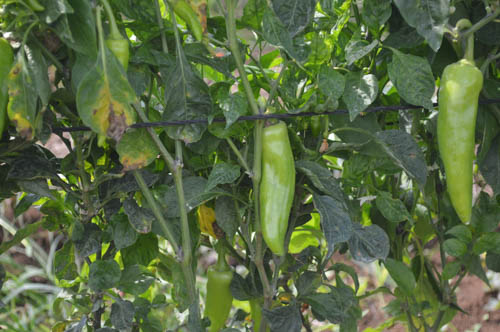ChiliPepper: (441, 64, 482, 223), (254, 124, 293, 254), (200, 267, 238, 330)
